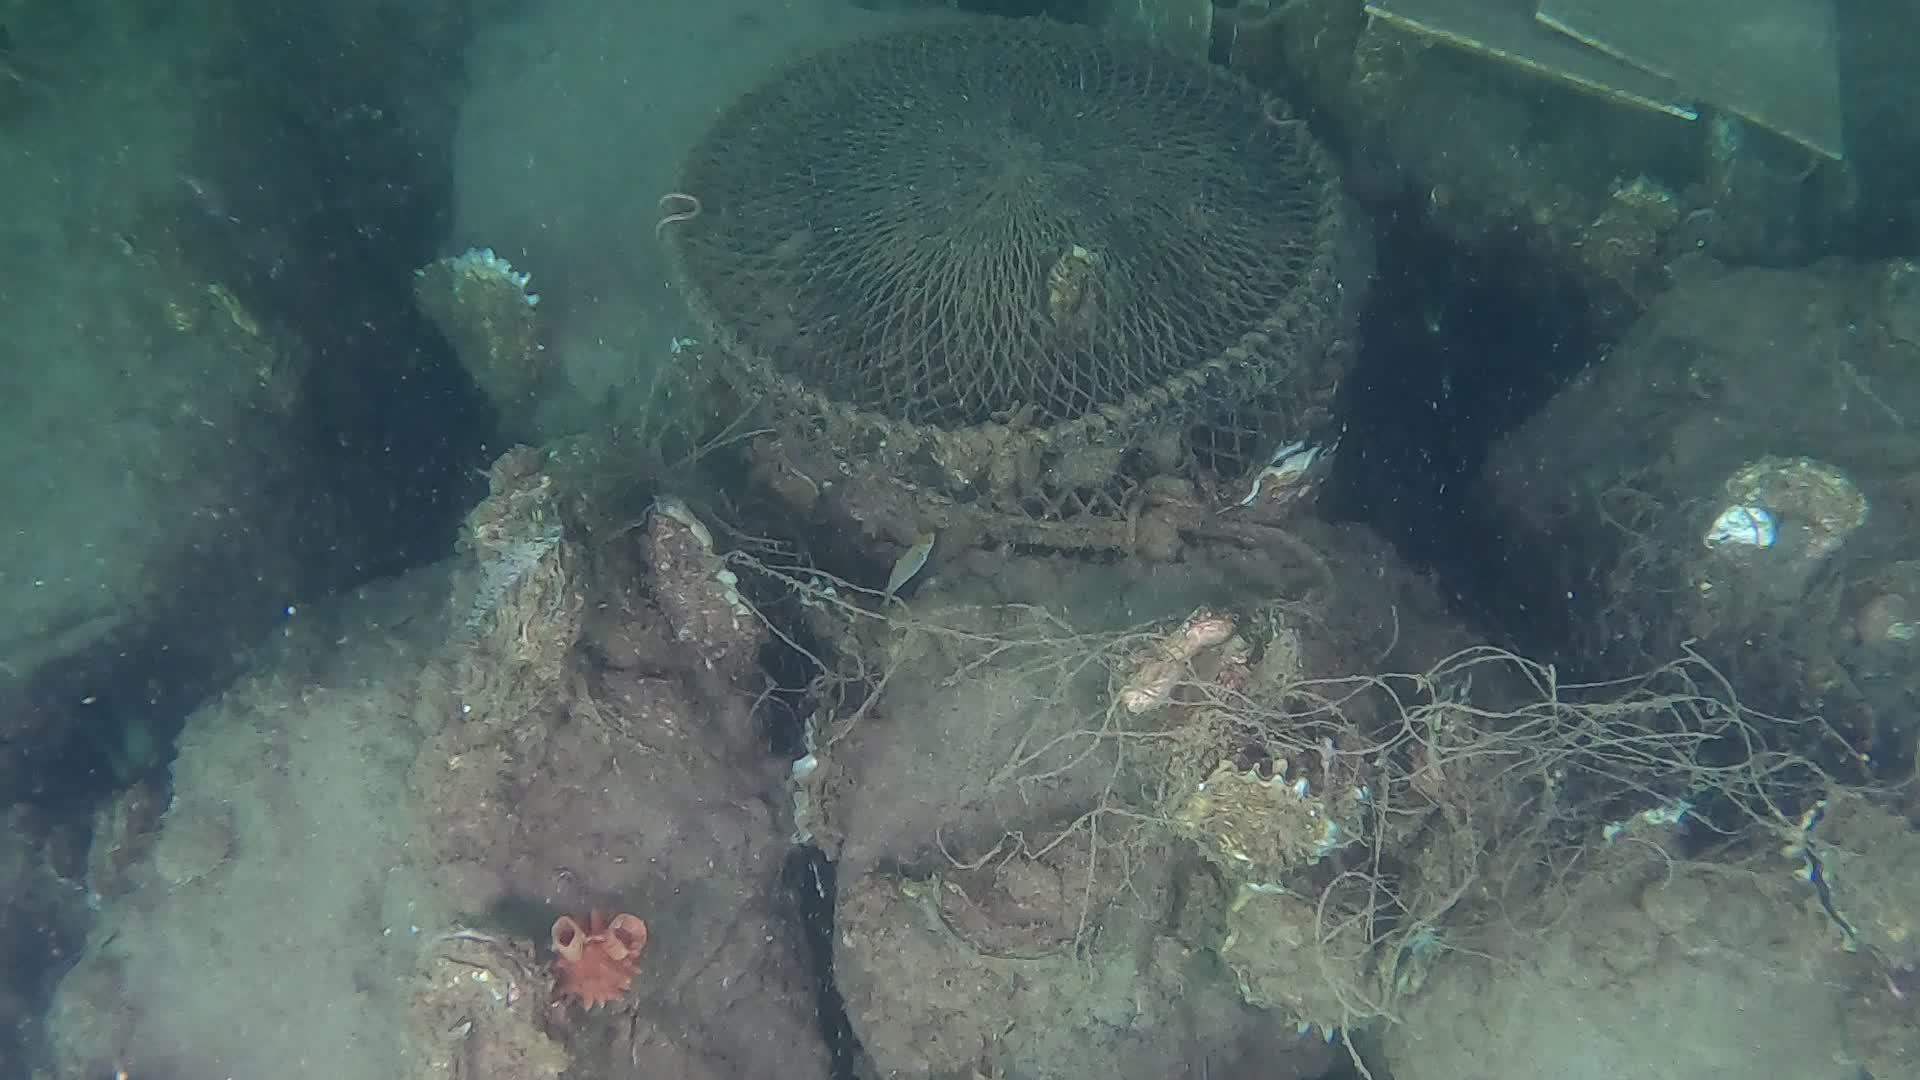circular fish trap: (651, 0, 1349, 558)
